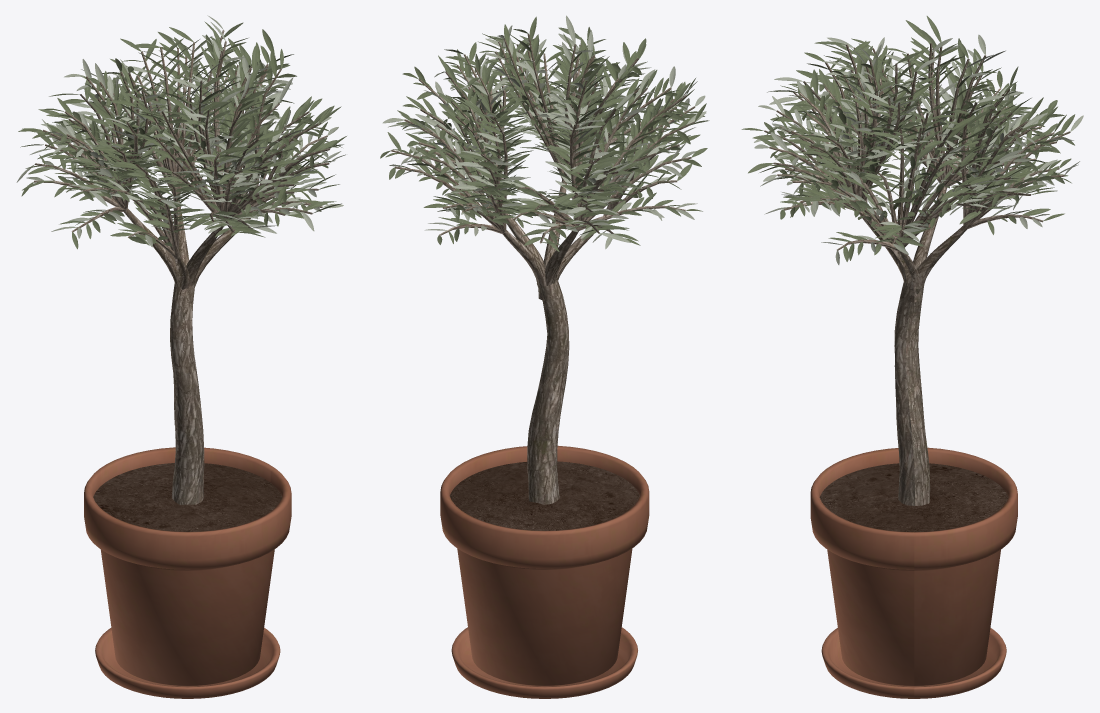
The model's file is olivo_120.glb.
3 renders of one model, left to right at view 1: azimuth 30°, elevation 25°; view 2: azimuth 150°, elevation 25°; view 3: azimuth 270°, elevation 25°, orthographic.
Visible parts, largest first — view 1: olivo_120; view 2: olivo_120; view 3: olivo_120.
Part boxes in pixels (<box>): olivo_120: <box>16,15,346,698</box>; olivo_120: <box>380,15,709,698</box>; olivo_120: <box>741,16,1083,698</box>.
Bounding box in the file's own units: 0.5999 × 1.2 × 0.5999.
4 materials, 4 textured.
